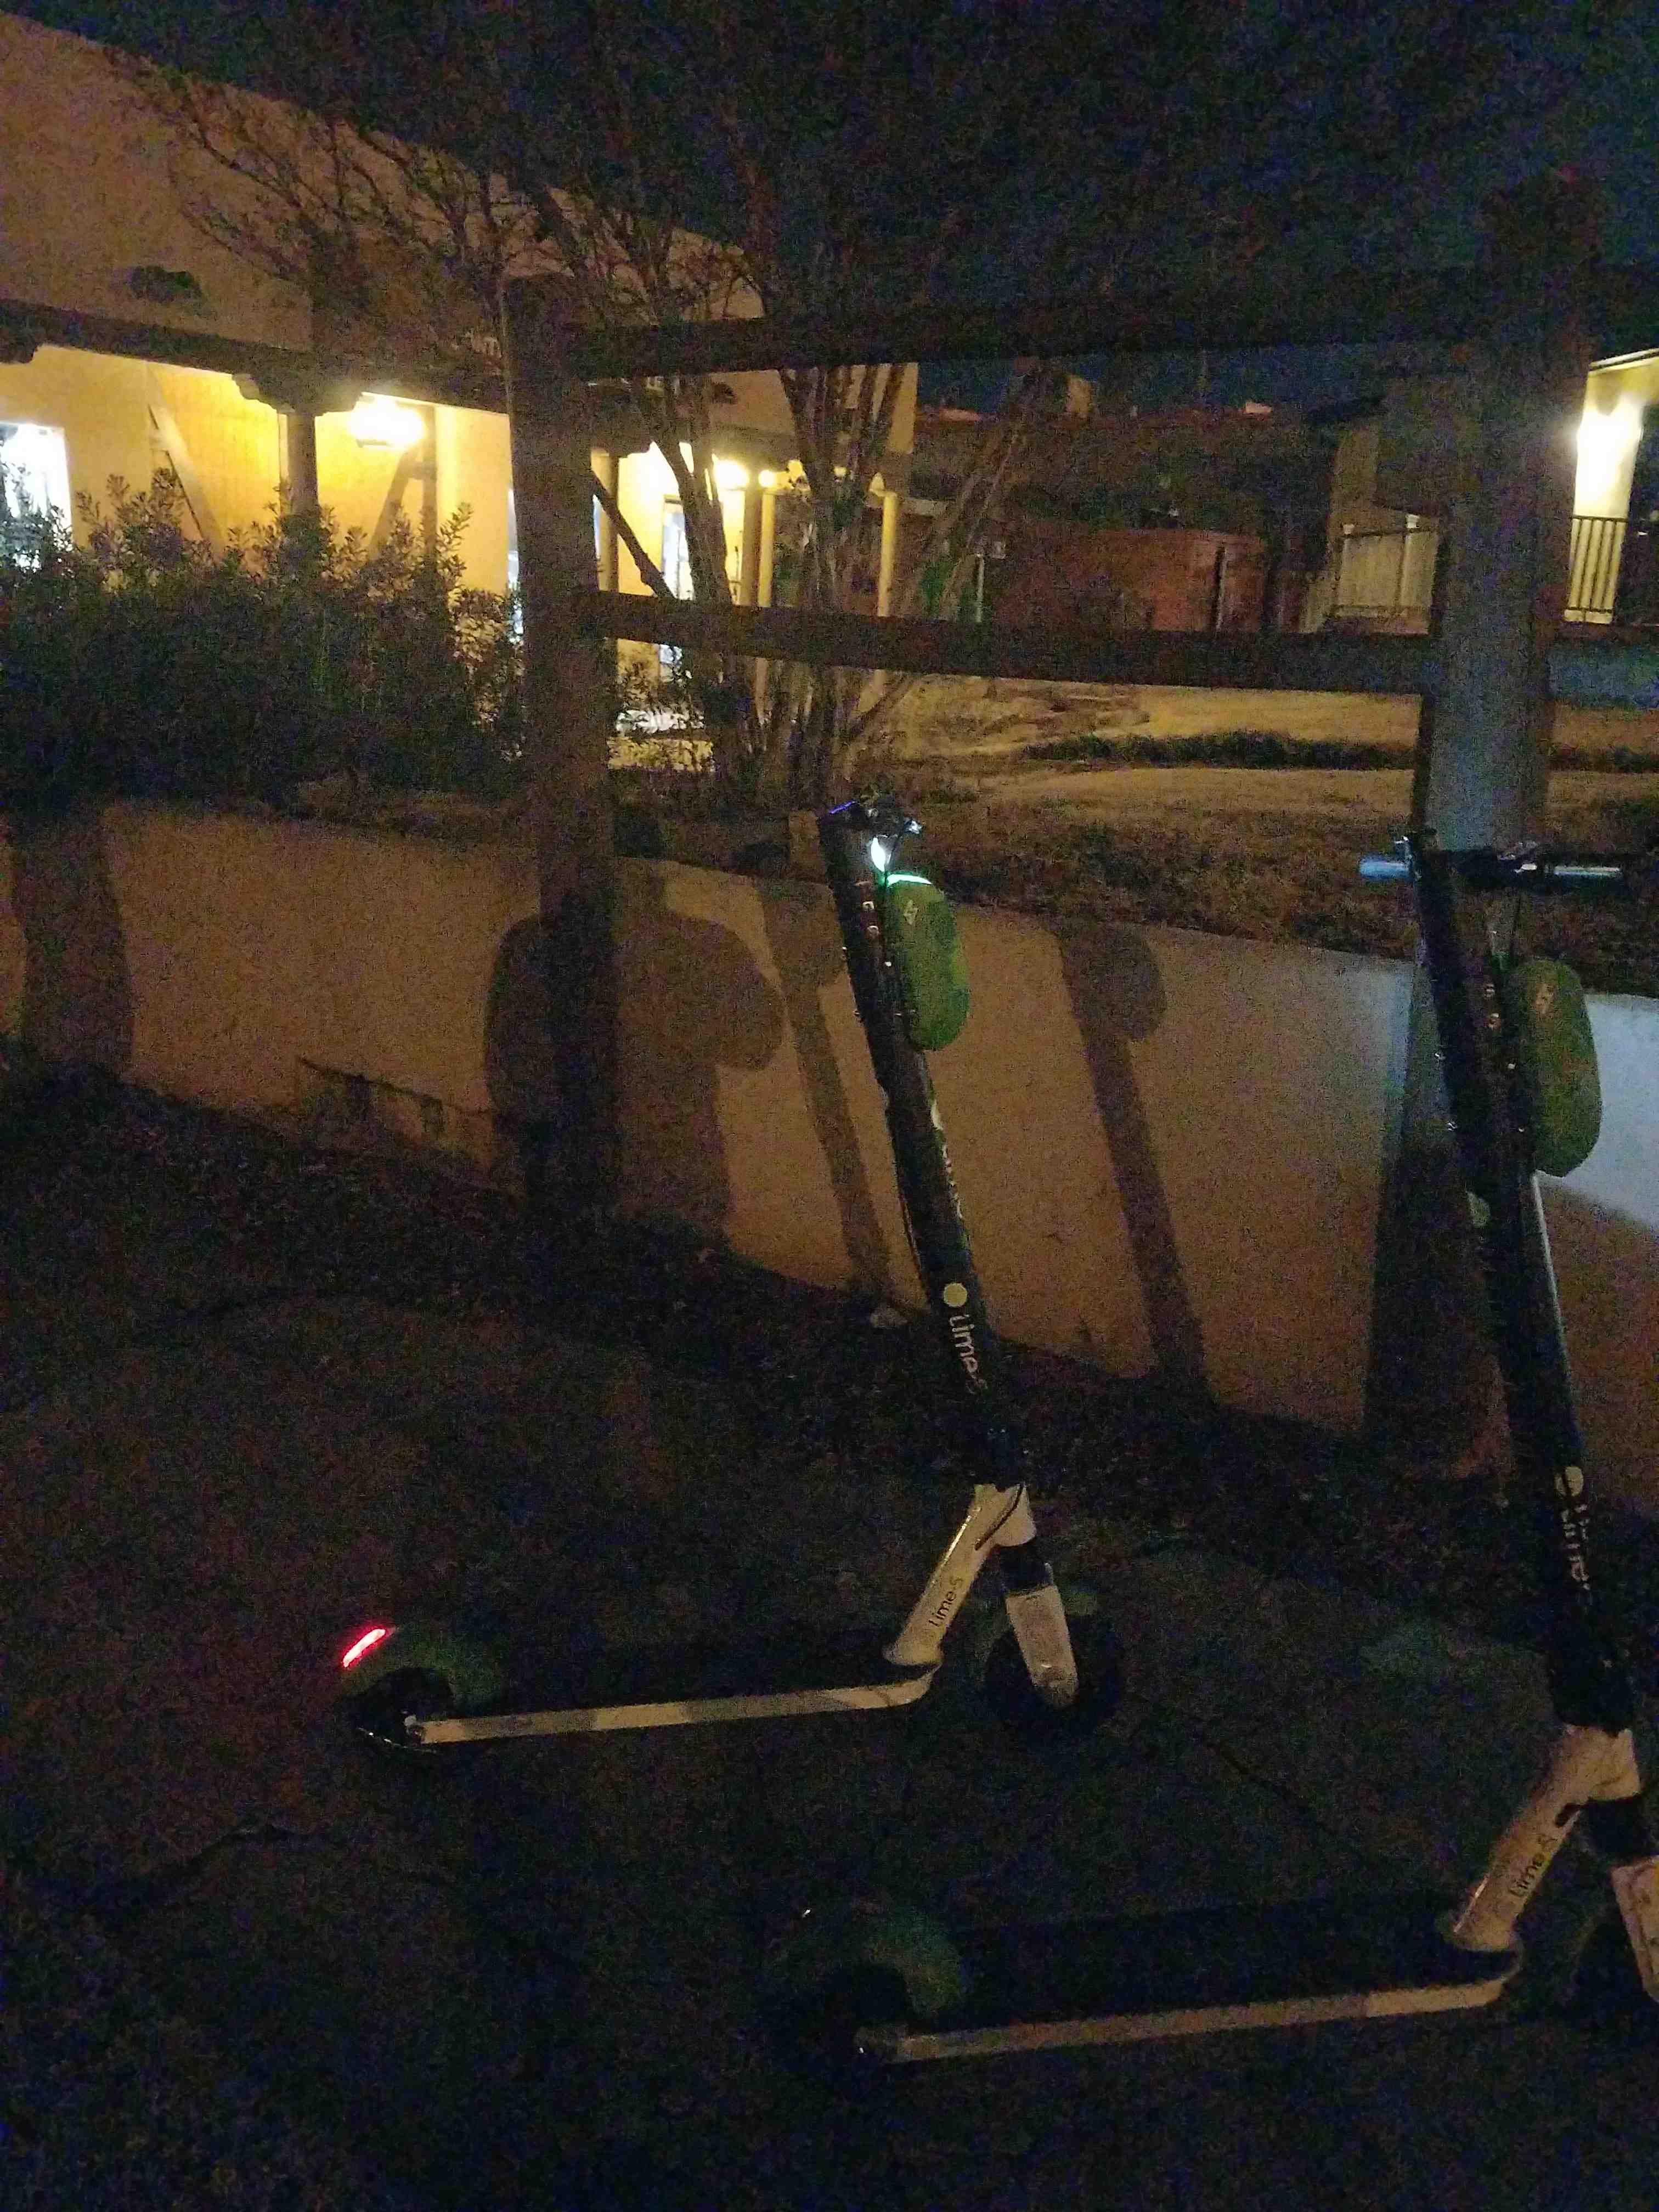scooter: (296, 726, 1138, 1838)
